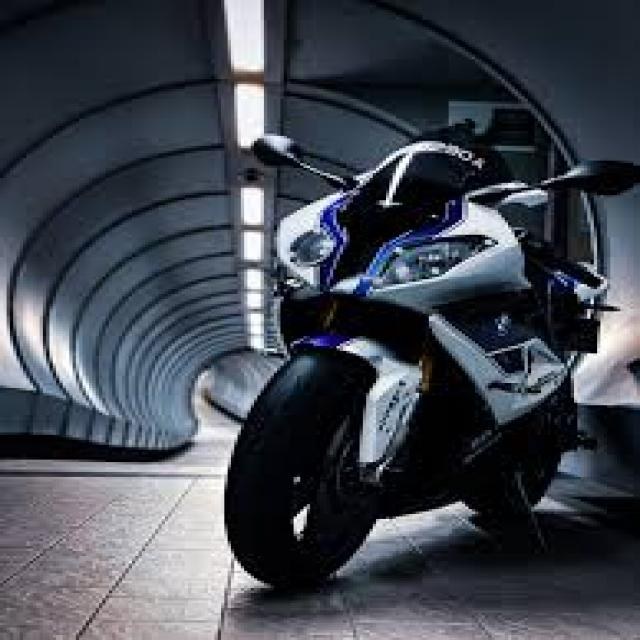Bike: (220, 121, 640, 593)
